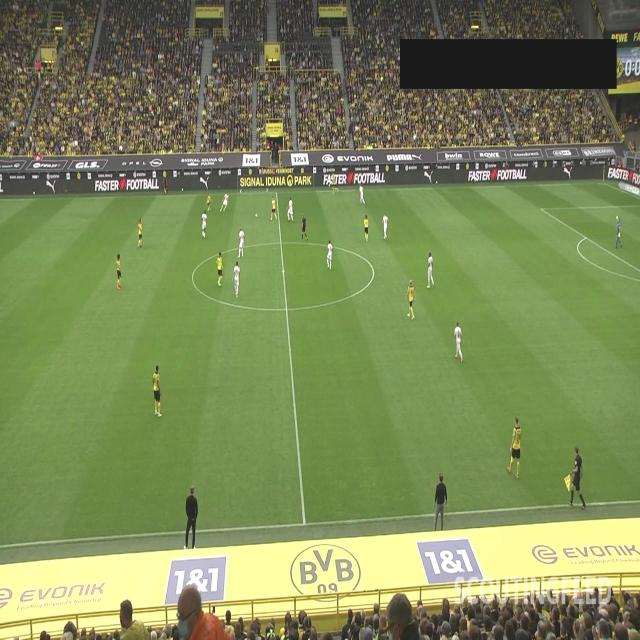ball: (255, 212, 258, 218)
goalkeeper: (616, 216, 622, 248)
player: (506, 416, 522, 479), (153, 364, 162, 418), (406, 278, 416, 320), (454, 322, 464, 364), (426, 252, 434, 290), (233, 260, 240, 298), (216, 252, 223, 286), (200, 210, 208, 239), (220, 190, 230, 213), (238, 227, 245, 259), (382, 212, 389, 242), (326, 240, 333, 270), (116, 254, 122, 288), (270, 196, 278, 221), (359, 183, 367, 206), (137, 218, 143, 248), (287, 197, 294, 222), (363, 214, 369, 242), (331, 172, 338, 196), (206, 191, 213, 213)
referee: (564, 446, 586, 510), (300, 214, 308, 242), (162, 173, 168, 196)
